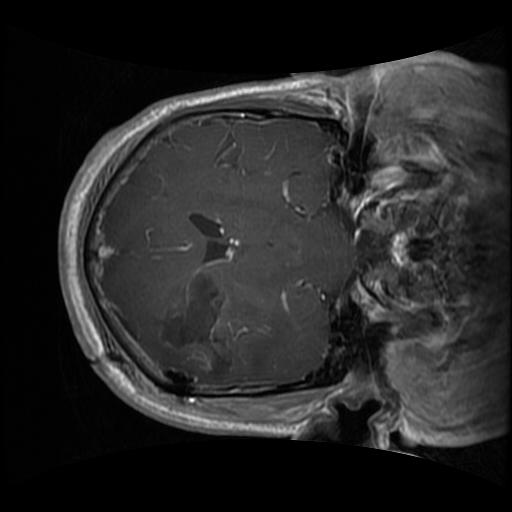glioma: (153, 272, 269, 385)
